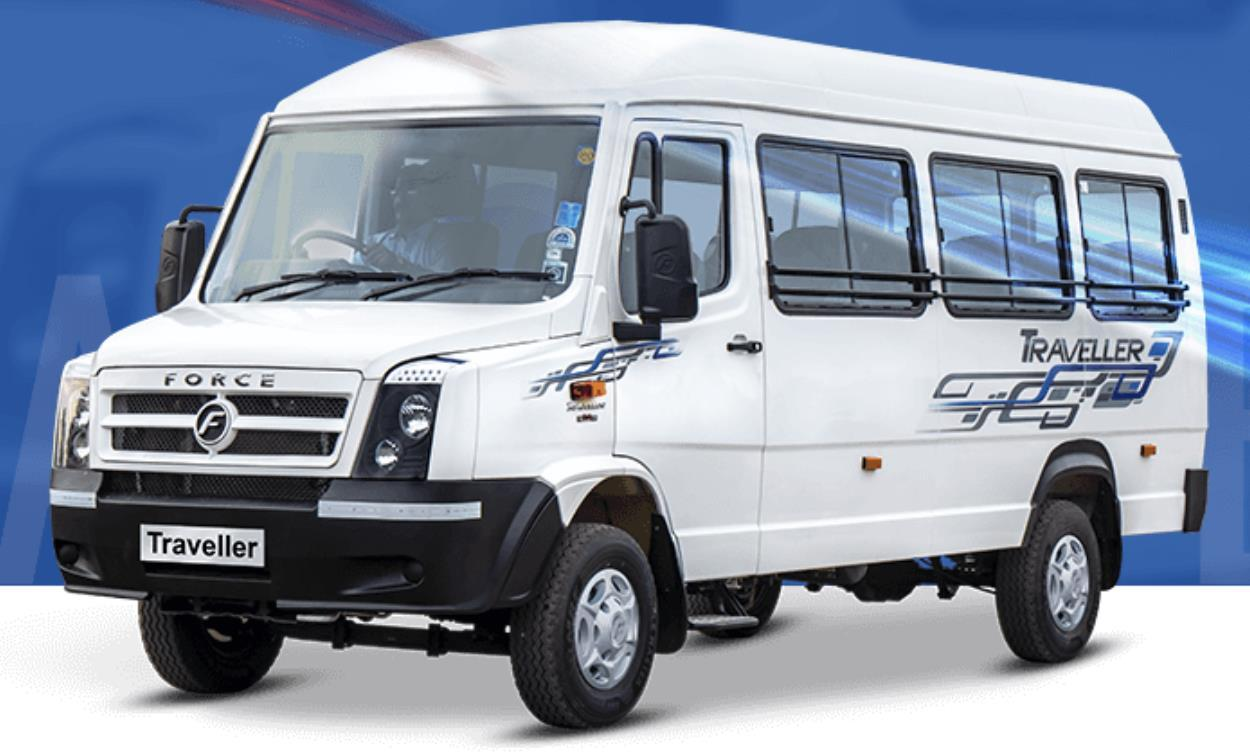van: (48, 19, 1209, 727)
